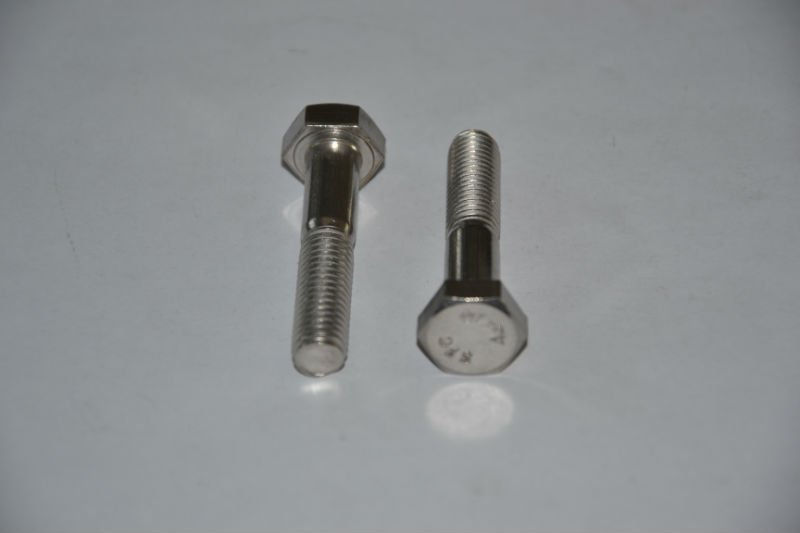screw: (281, 103, 387, 376), (416, 131, 529, 378)
